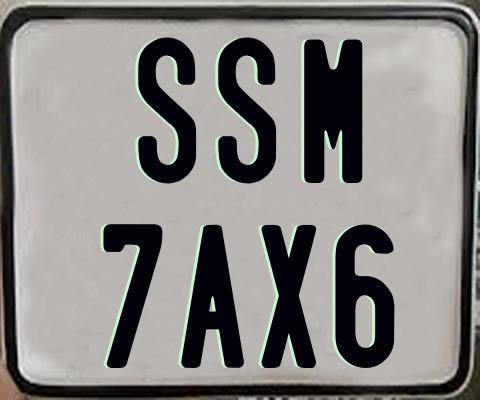6: (333, 223, 398, 368)
7: (100, 221, 163, 368)
A: (179, 225, 247, 369)
M: (301, 39, 363, 183)
S: (138, 34, 198, 182), (216, 34, 275, 182)
X: (259, 224, 317, 370)
